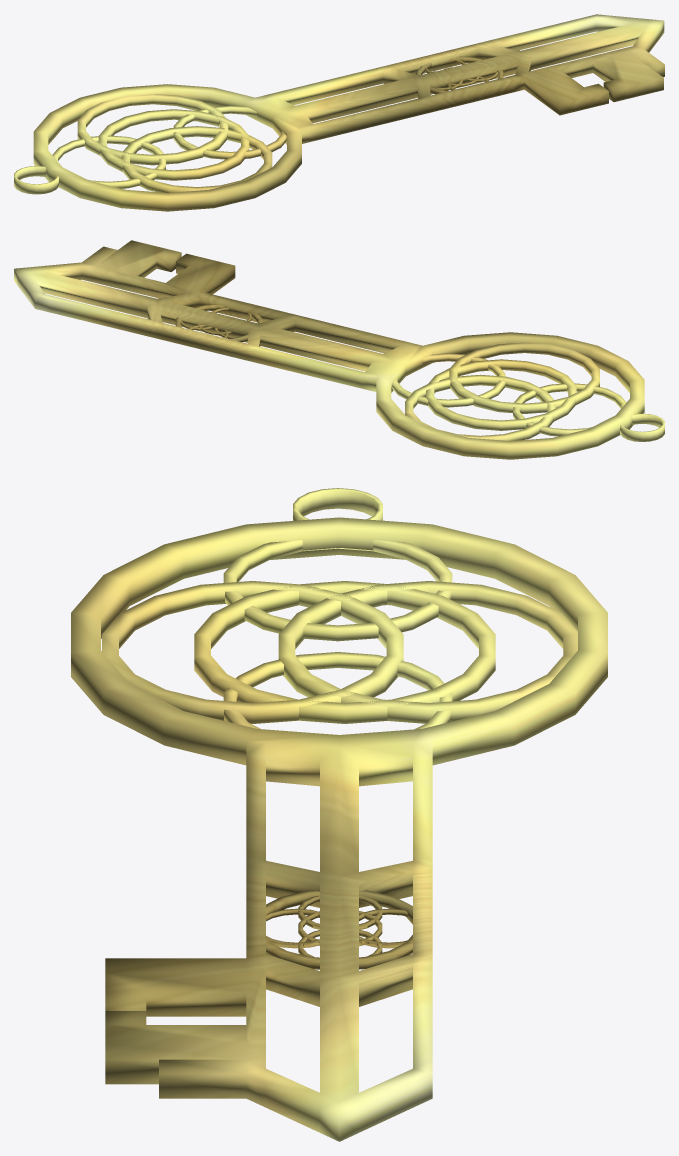
Rendered from clef.FBX.
3 renders of one model, top to bottom at view 1: azimuth 30°, elevation 25°; view 2: azimuth 150°, elevation 25°; view 3: azimuth 270°, elevation 25°, orthographic. The views are drawn at different scales.
Parts seen in each view (by area): view 1: Cylindre001; view 2: Cylindre001; view 3: Cylindre001.
Part boxes in pixels (<box>): Cylindre001: <box>14,14,664,211</box>; Cylindre001: <box>14,240,664,459</box>; Cylindre001: <box>71,488,607,1141</box>.
Bounding box in the file's own units: 19.56 × 0.3559 × 7.02.
